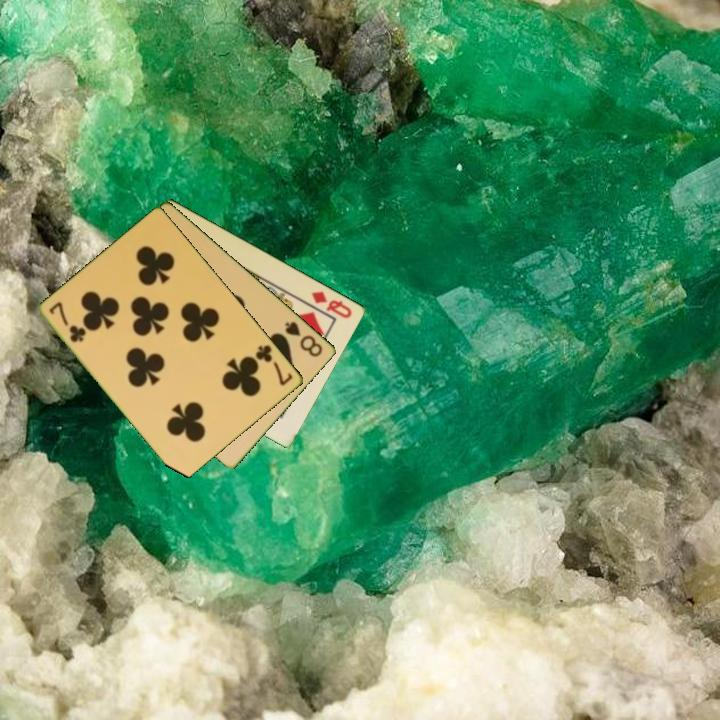7c: (252, 341, 296, 389), (46, 298, 89, 346)
8s: (282, 318, 326, 360)
Qd: (308, 287, 355, 321)
